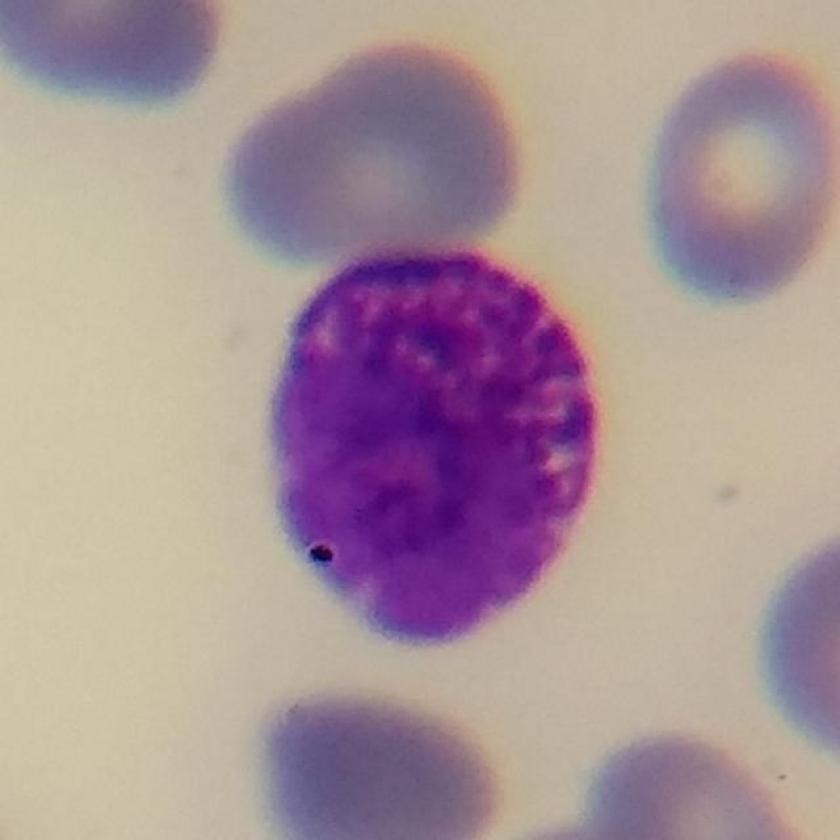basophil: (254, 240, 618, 652)
